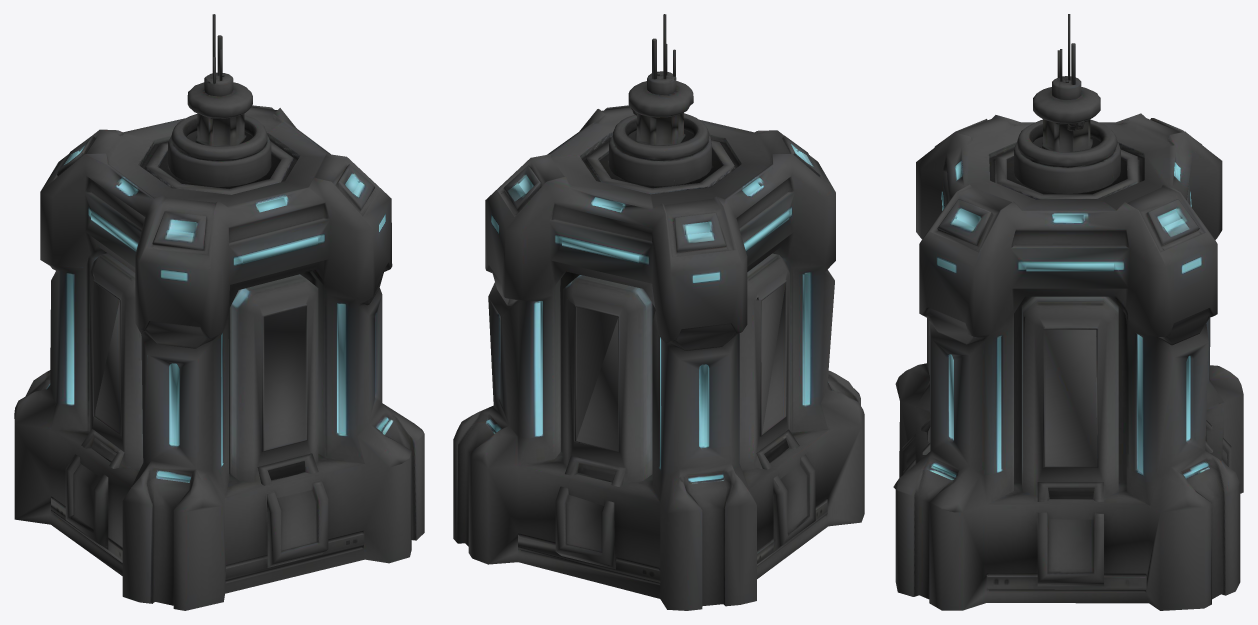
The model's file is selected.glb.
3 renders of one model, left to right at view 1: azimuth 30°, elevation 25°; view 2: azimuth 150°, elevation 25°; view 3: azimuth 270°, elevation 25°, orthographic. The views are drawn at different scales.
Parts seen in each view (by area): view 1: tripo_node_ba4b9433-cb63-4474-a3ac-4b2b8ba625a0; view 2: tripo_node_ba4b9433-cb63-4474-a3ac-4b2b8ba625a0; view 3: tripo_node_ba4b9433-cb63-4474-a3ac-4b2b8ba625a0.
Boxes of the visible parts, bbox=[...] form: tripo_node_ba4b9433-cb63-4474-a3ac-4b2b8ba625a0: bbox=[14, 14, 424, 610]; tripo_node_ba4b9433-cb63-4474-a3ac-4b2b8ba625a0: bbox=[453, 14, 864, 610]; tripo_node_ba4b9433-cb63-4474-a3ac-4b2b8ba625a0: bbox=[893, 14, 1243, 610].
Size of the model in its own units: 0.6113 by 0.998 by 0.6074.
Materials: 1 (1 with a texture image).
